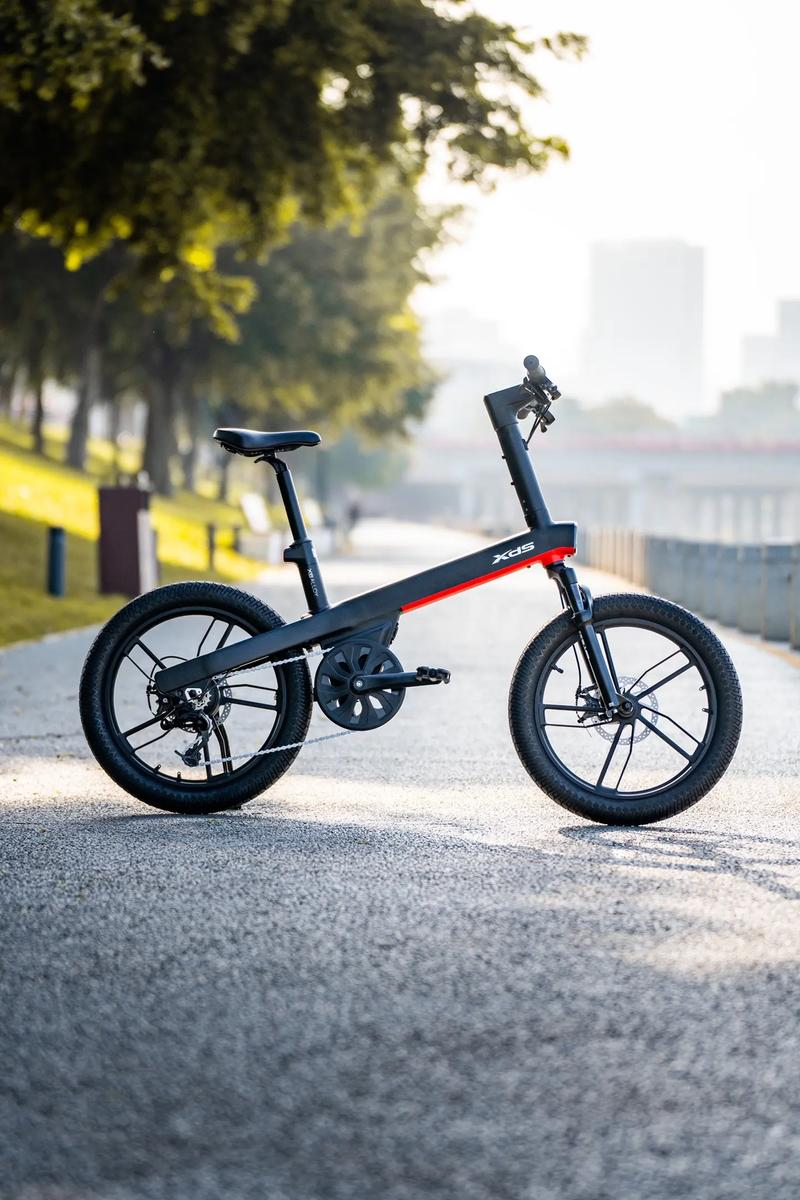单车: (90, 347, 759, 840)
